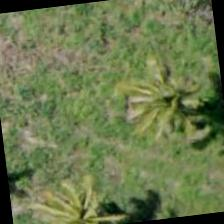Kelapa_Sawit: (108, 35, 208, 135), (17, 156, 116, 223)
